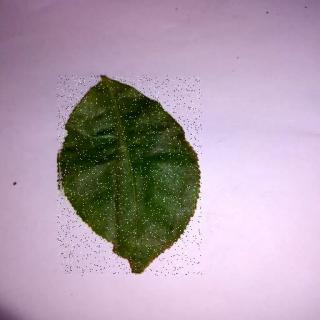Bird Eye Spot: (59, 77, 204, 277)
